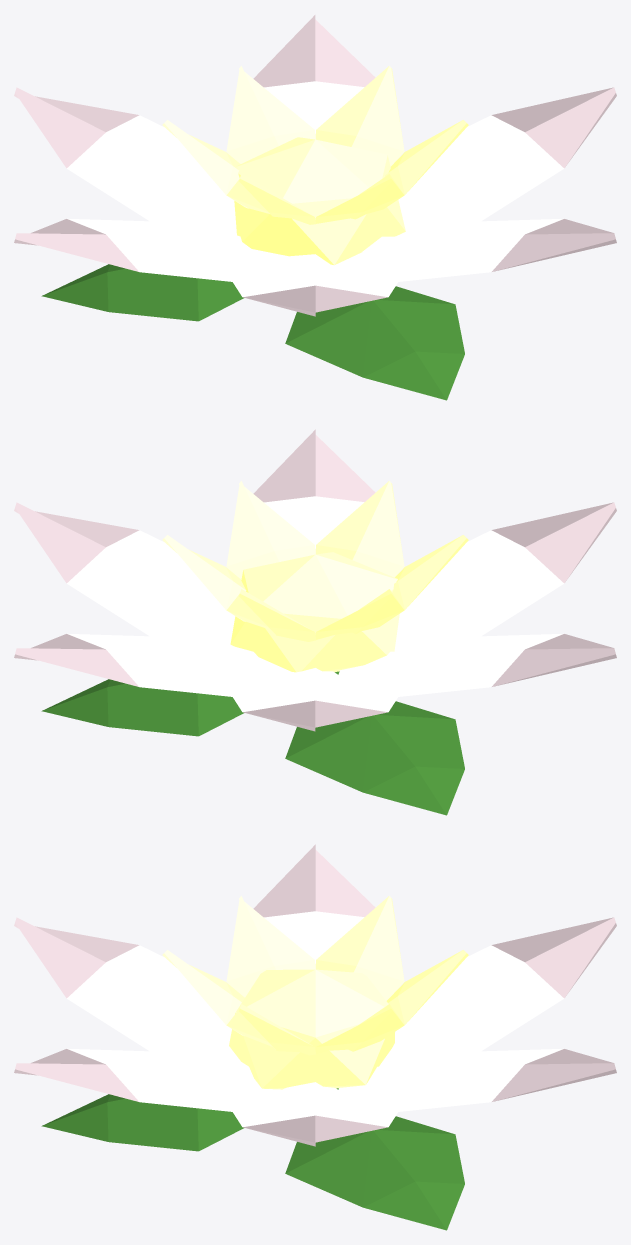
File: Tree_Blossom.fbx
The picture shows the model from 3 angles, top to bottom: view 1: azimuth 30°, elevation 25°; view 2: azimuth 150°, elevation 25°; view 3: azimuth 270°, elevation 25°; orthographic projection.
Visible parts, largest first — view 1: Tree_Blossom; view 2: Tree_Blossom; view 3: Tree_Blossom.
Part boxes in pixels (x1,y1,x2,y2): Tree_Blossom: (14, 15, 616, 400); Tree_Blossom: (14, 429, 616, 815); Tree_Blossom: (14, 844, 616, 1230).
Size of the model in its own units: 0.2511 by 0.0713 by 0.2175.
